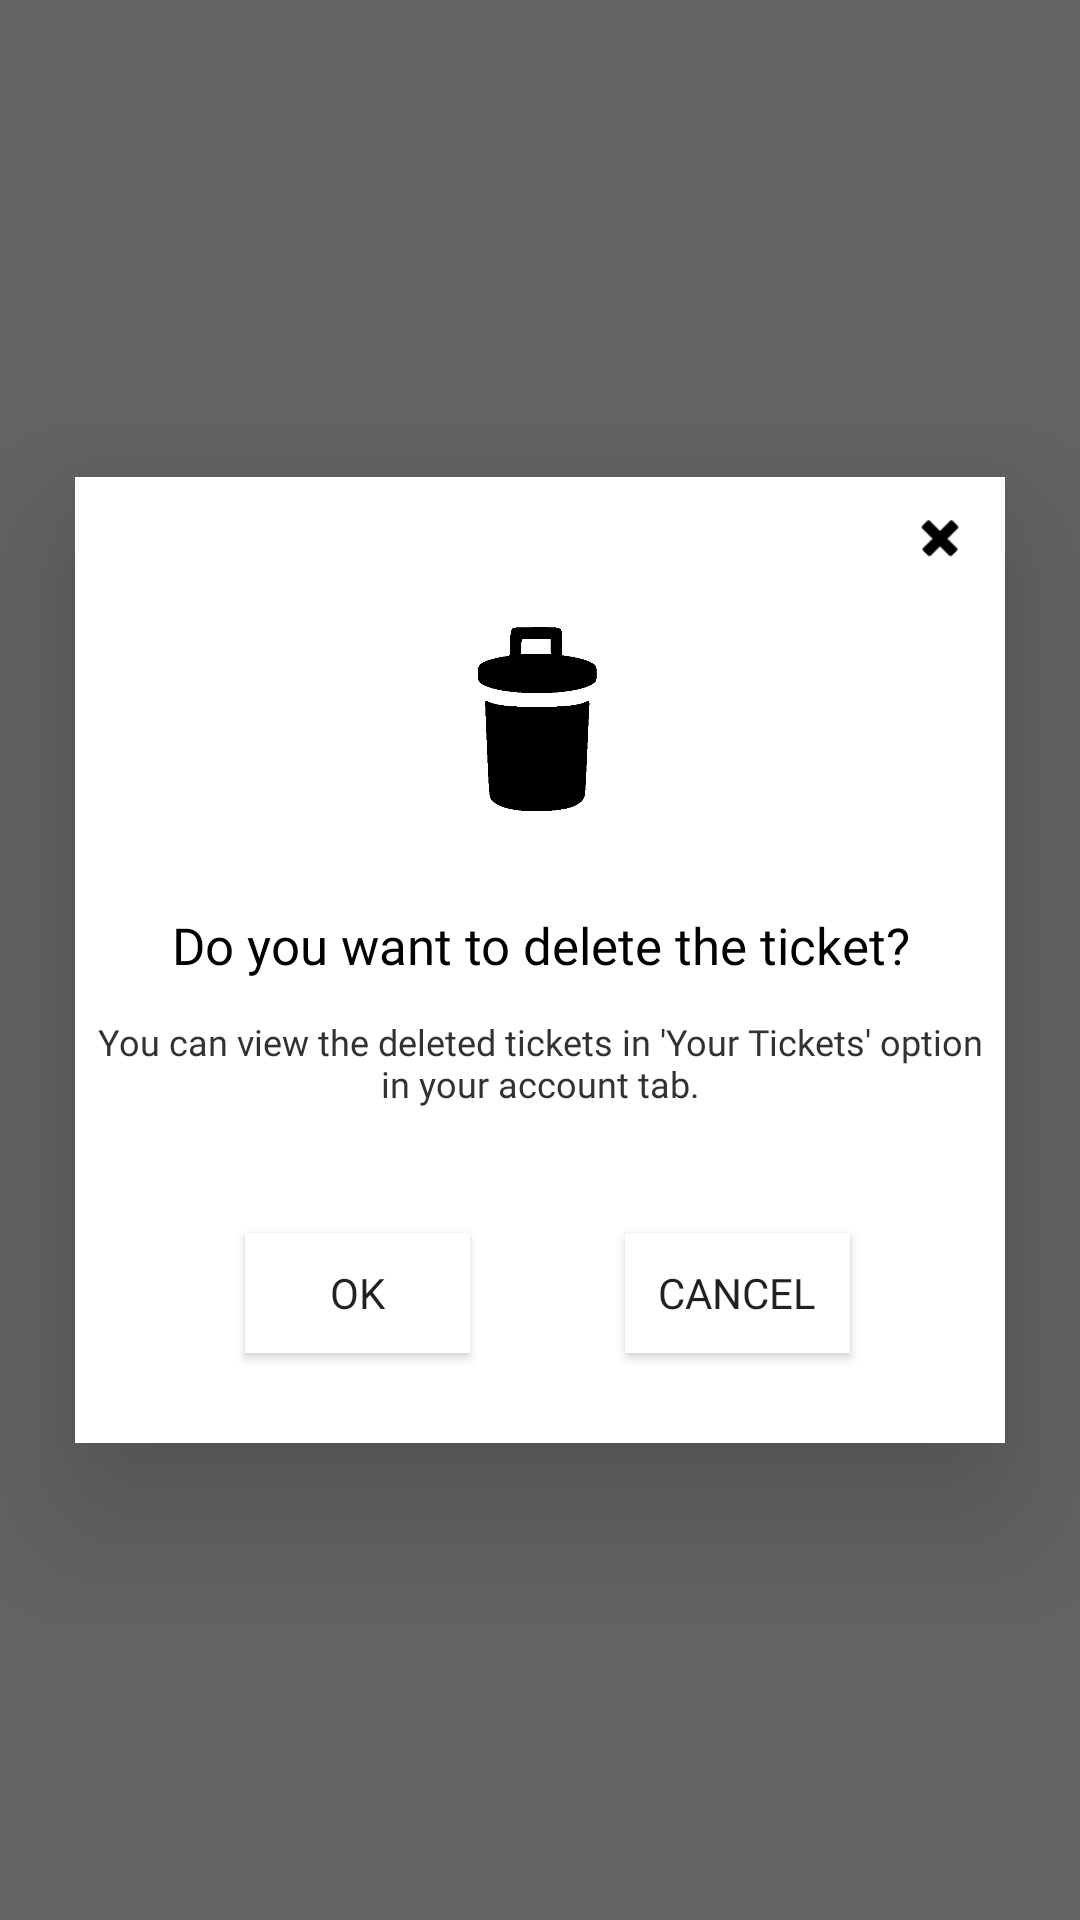

Screen size 1080x1920. Icon name, then its box in pixels as Rect(x1, y1, x2, y2):
delete bin: Rect(478, 627, 597, 811)
